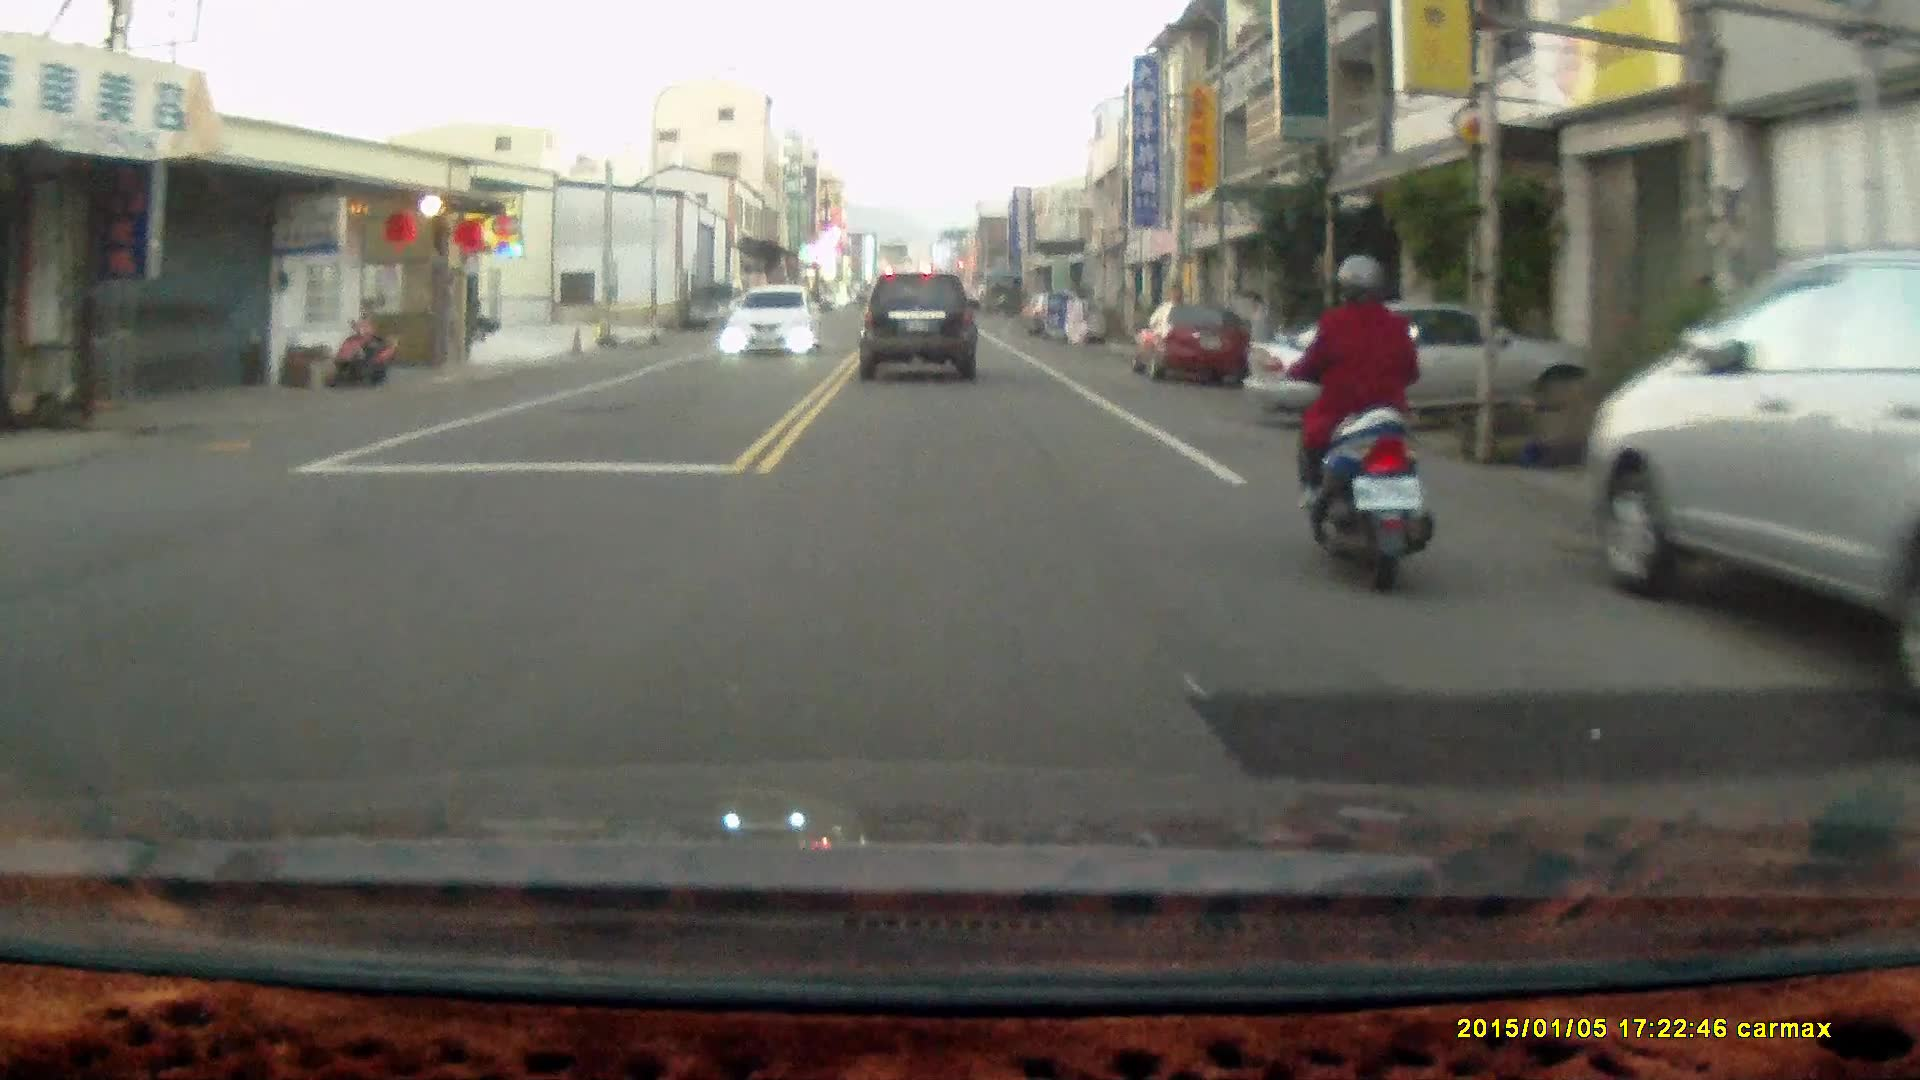rider: (1262, 248, 1436, 594)
vehicle: (1584, 250, 1919, 704), (1249, 297, 1604, 431), (858, 269, 981, 381), (1130, 298, 1254, 382), (722, 285, 823, 356), (685, 279, 748, 327)
